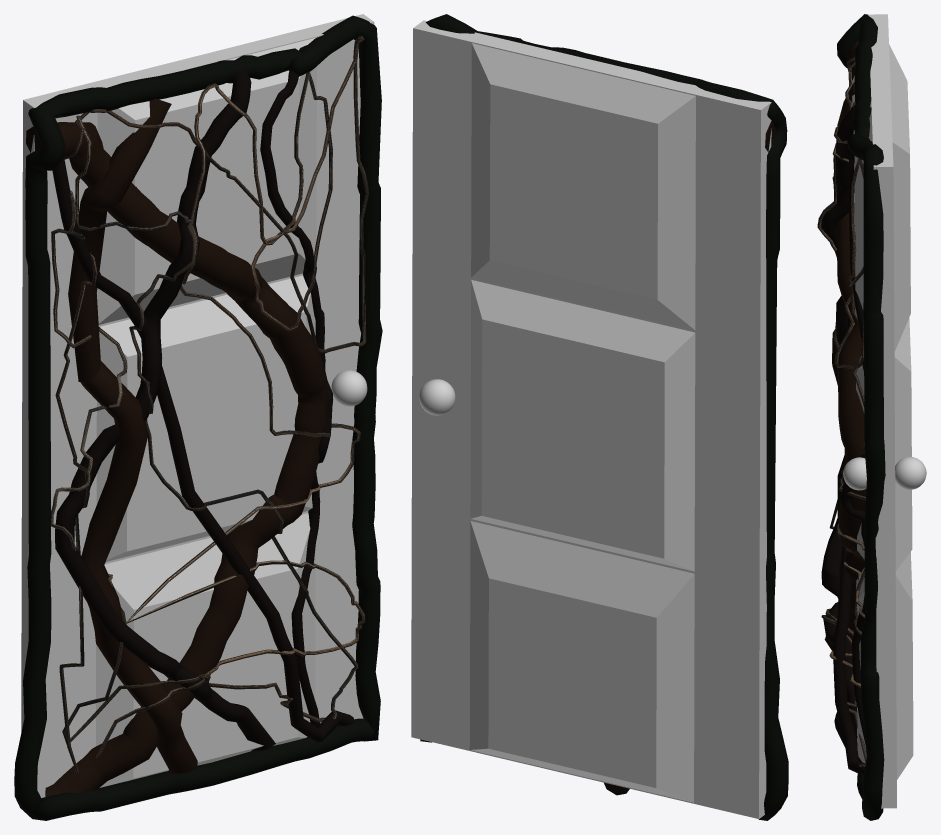
File: MM_Puerta.obj
3 renders of one model, left to right at view 1: azimuth 30°, elevation 25°; view 2: azimuth 150°, elevation 25°; view 3: azimuth 270°, elevation 25°, orthographic. The views are drawn at different scales.
Parts seen in each view (by area): view 1: Puerta_Madremonte, BézierCurve.005, BézierCurve, BézierCurve.006, BézierCurve.003, BézierCurve.001, BézierCurve.004, BézierCurve.002; view 2: Puerta_Madremonte, BézierCurve.005; view 3: Puerta_Madremonte, BézierCurve.005, BézierCurve, BézierCurve.001, BézierCurve.006, BézierCurve.004, BézierCurve.002, BézierCurve.003.
Boxes of the visible parts, left/top/right/bottom form: Puerta_Madremonte: left=21, top=14, right=374, bottom=797; BézierCurve.005: left=14, top=15, right=382, bottom=820; BézierCurve: left=26, top=122, right=327, bottom=797; BézierCurve.006: left=51, top=36, right=369, bottom=773; BézierCurve.003: left=68, top=98, right=197, bottom=773; BézierCurve.001: left=55, top=68, right=275, bottom=751; BézierCurve.004: left=52, top=157, right=354, bottom=742; BézierCurve.002: left=260, top=45, right=333, bottom=727; Puerta_Madremonte: left=411, top=20, right=771, bottom=818; BézierCurve.005: left=420, top=14, right=788, bottom=820; Puerta_Madremonte: left=843, top=14, right=926, bottom=808; BézierCurve.005: left=834, top=14, right=885, bottom=820; BézierCurve: left=836, top=41, right=866, bottom=639; BézierCurve.001: left=821, top=106, right=857, bottom=746; BézierCurve.006: left=817, top=57, right=866, bottom=766; BézierCurve.004: left=833, top=74, right=865, bottom=775; BézierCurve.002: left=839, top=138, right=869, bottom=744; BézierCurve.003: left=824, top=82, right=854, bottom=650.
Size of the model in its own units: 2.16 by 4.1 by 0.6107.
